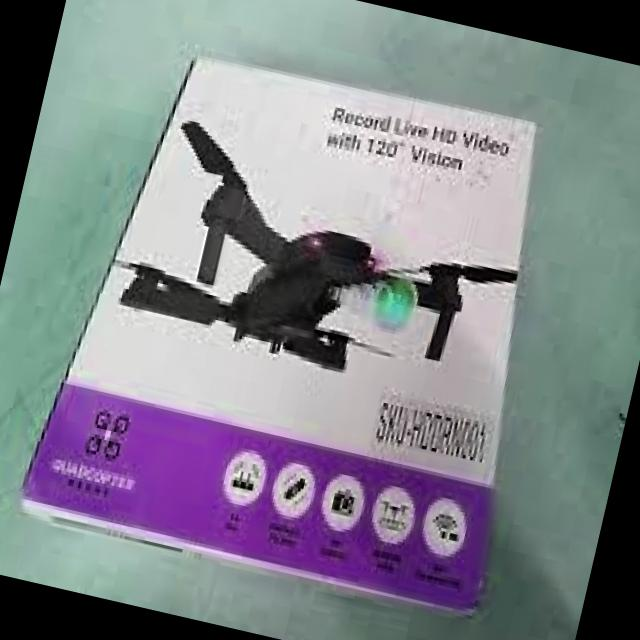drone: (93, 107, 539, 450)
